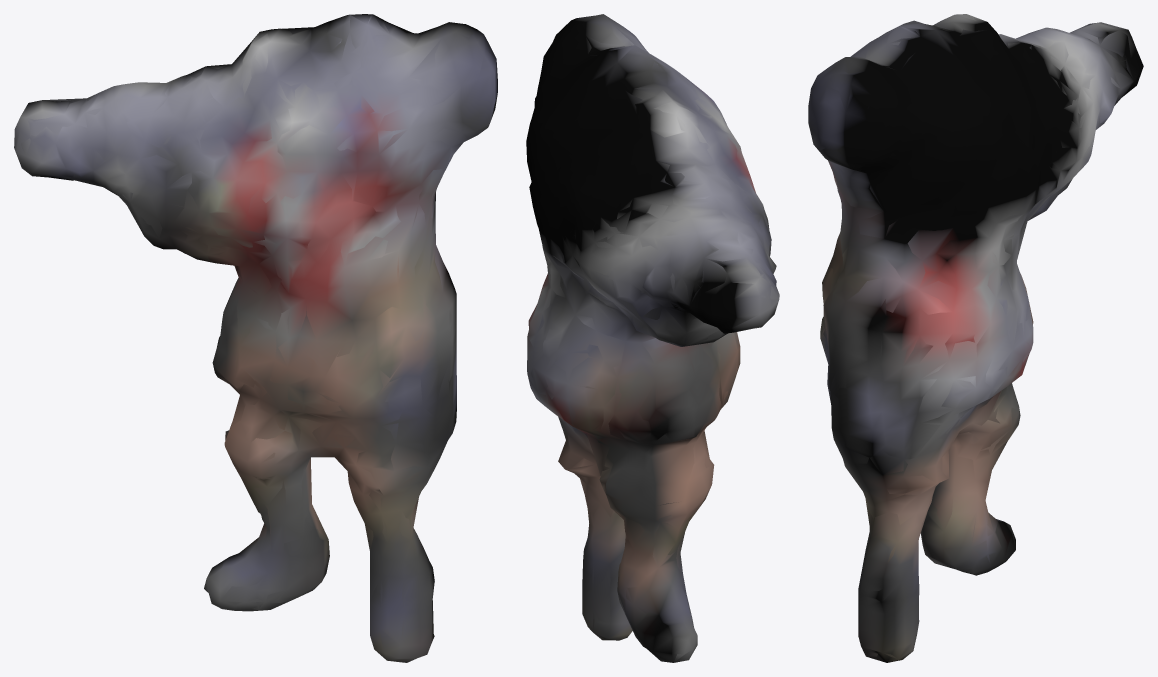
Rendered from flak_trooper.glb.
3 renders of one model, left to right at view 1: azimuth 30°, elevation 25°; view 2: azimuth 150°, elevation 25°; view 3: azimuth 270°, elevation 25°, orthographic. The views are drawn at different scales.
Parts seen in each view (by area): view 1: flak_trooper; view 2: flak_trooper; view 3: flak_trooper.
Boxes of the visible parts, x1=… form: flak_trooper: x1=14, y1=14, x2=497, y2=662; flak_trooper: x1=526, y1=14, x2=779, y2=662; flak_trooper: x1=808, y1=14, x2=1143, y2=662.
Bounding box in the file's own units: 1.29 × 2.23 × 1.09.
